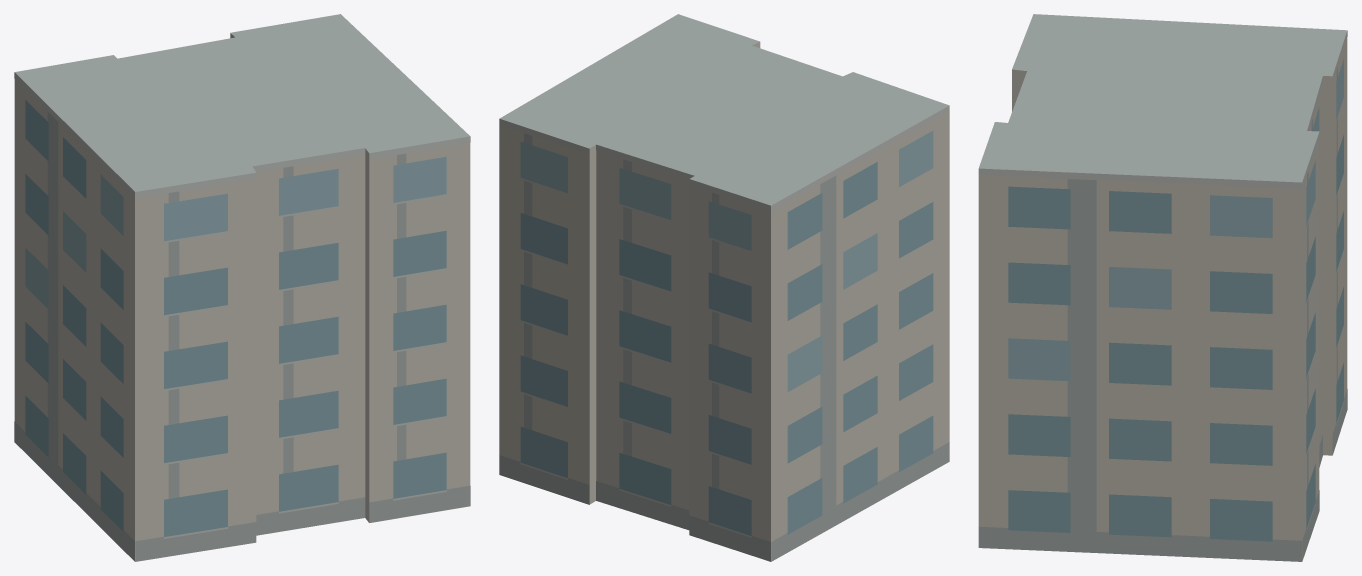
File: survey-upis-32824852.glb
3 renders of one model, left to right at view 1: azimuth 30°, elevation 25°; view 2: azimuth 150°, elevation 25°; view 3: azimuth 270°, elevation 25°, orthographic. The views are drawn at different scales.
Visible parts, largest first — view 1: survey-upis-32824852.tmp; view 2: survey-upis-32824852.tmp; view 3: survey-upis-32824852.tmp.
Boxes of the visible parts, x1,y1,x2,y2 form: survey-upis-32824852.tmp: (14, 14, 470, 561); survey-upis-32824852.tmp: (499, 14, 949, 561); survey-upis-32824852.tmp: (978, 14, 1347, 561).
Bounding box in the file's own units: 13.34 × 14 × 12.34.
